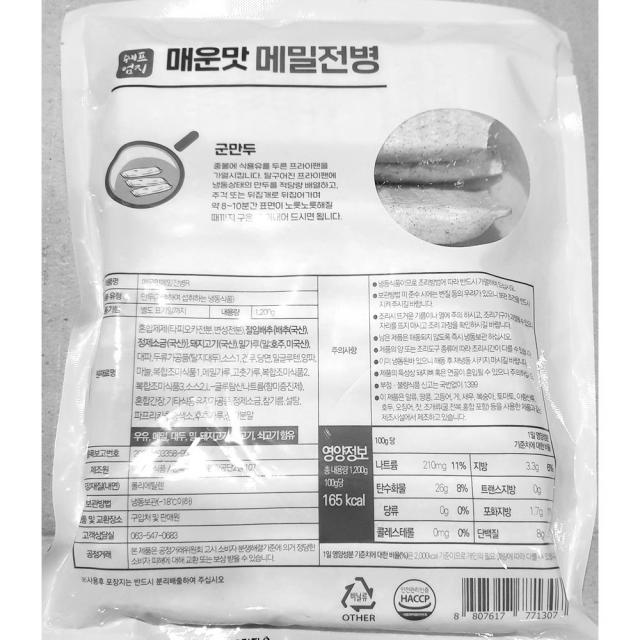Nutrition Label: (305, 408, 571, 567)
